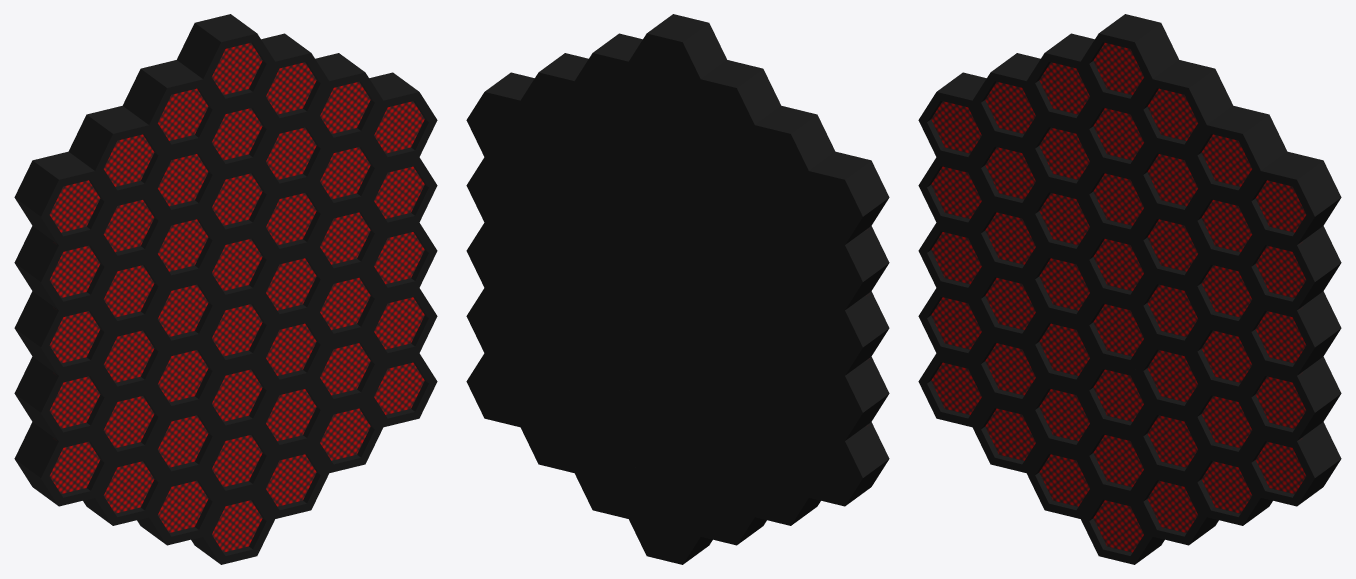
File: heatHex.fbx
3 views of the same model, side by side, from view 1: azimuth 30°, elevation 25°; view 2: azimuth 150°, elevation 25°; view 3: azimuth 330°, elevation 25° (orthographic).
Parts seen in each view (by area): view 1: heatHex; view 2: heatHex; view 3: heatHex.
Part boxes in pixels (x1=…): heatHex: x1=14, y1=14, x2=437, y2=564; heatHex: x1=466, y1=14, x2=889, y2=564; heatHex: x1=918, y1=14, x2=1341, y2=564.
Bounding box in the file's own units: 380 × 479 × 44.12.
